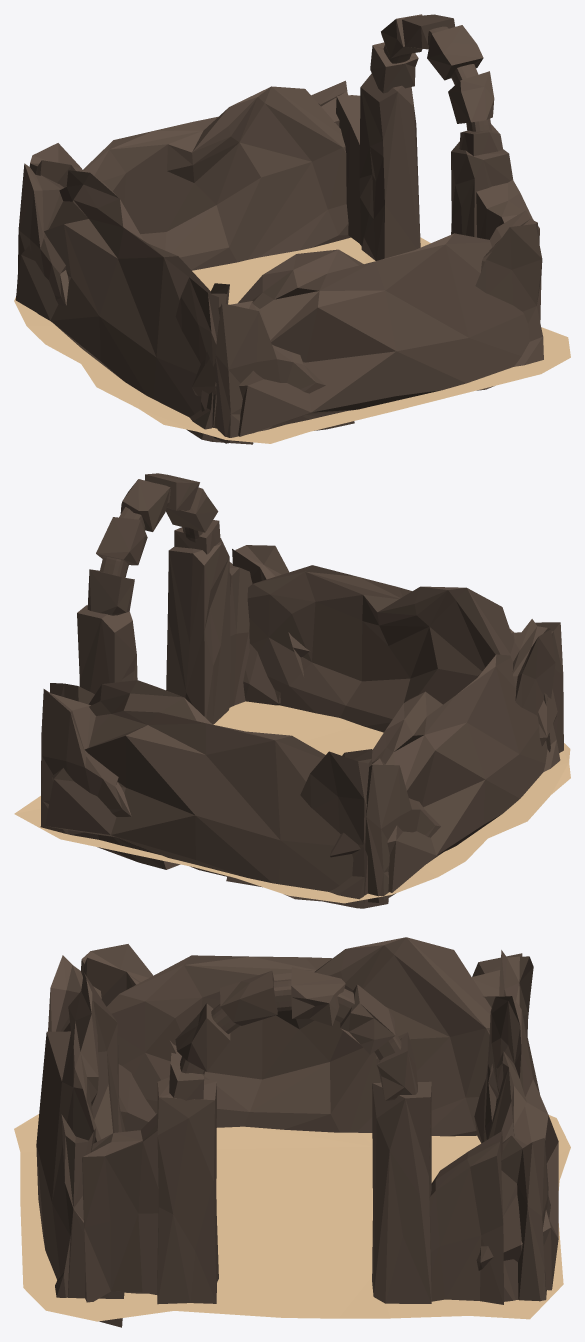
The model's file is ruins.fbx.
3 renders of one model, top to bottom at view 1: azimuth 30°, elevation 25°; view 2: azimuth 150°, elevation 25°; view 3: azimuth 270°, elevation 25°, orthographic. The views are drawn at different scales.
Parts seen in each view (by area): view 1: Wall 4.2, Wall 2.2, Wall 3.2, Killer Pillars, Wall 4.1, Ground, Rock Blocks, Wall 3.1, Tall Wall, Wall 2.1, Brick Stick; view 2: Wall 2.2, Wall 4.2, Wall 3.2, Killer Pillars, Wall 2.1, Ground, Wall 3.1, Rock Blocks, Wall 4.1, Tall Wall, Brick Stick; view 3: Wall 3.2, Ground, Killer Pillars, Tall Wall, Wall 4.2, Rock Blocks, Wall 2.2, Wall 2.1, Wall 4.1, Wall 3.1, Brick Stick.
Part boxes in pixels (left/top/right/bottom): Wall 4.2: left=192, top=233, right=529, bottom=436; Wall 2.2: left=66, top=86, right=350, bottom=270; Wall 3.2: left=15, top=170, right=210, bottom=416; Killer Pillars: left=359, top=73, right=513, bottom=260; Wall 4.1: left=201, top=210, right=543, bottom=443; Ground: left=14, top=237, right=570, bottom=443; Rock Blocks: left=370, top=14, right=502, bottom=156; Wall 3.1: left=16, top=163, right=253, bottom=444; Tall Wall: left=336, top=95, right=539, bottom=245; Wall 2.1: left=29, top=80, right=347, bottom=187; Brick Stick: left=383, top=26, right=491, bottom=131; Wall 2.2: left=45, top=680, right=353, bottom=891; Wall 4.2: left=247, top=565, right=557, bottom=745; Wall 3.2: left=330, top=654, right=547, bottom=892; Killer Pillars: left=77, top=538, right=230, bottom=724; Wall 2.1: left=40, top=689, right=388, bottom=908; Ground: left=14, top=701, right=570, bottom=903; Wall 3.1: left=365, top=619, right=560, bottom=902; Rock Blocks: left=87, top=473, right=220, bottom=615; Wall 4.1: left=232, top=545, right=563, bottom=752; Tall Wall: left=50, top=562, right=252, bottom=707; Brick Stick: left=99, top=483, right=202, bottom=577; Wall 3.2: left=107, top=937, right=491, bottom=1136; Ground: left=14, top=1114, right=570, bottom=1321; Killer Pillars: left=157, top=1077, right=431, bottom=1304; Tall Wall: left=82, top=1113, right=503, bottom=1304; Wall 4.2: left=36, top=972, right=125, bottom=1279; Rock Blocks: left=169, top=967, right=417, bottom=1100; Wall 2.2: left=476, top=996, right=558, bottom=1290; Wall 2.1: left=474, top=950, right=550, bottom=1301; Wall 4.1: left=48, top=955, right=124, bottom=1327; Wall 3.1: left=81, top=944, right=522, bottom=1131; Brick Stick: left=180, top=979, right=401, bottom=1075.
Size of the model in its own units: 926 by 635 by 924.
